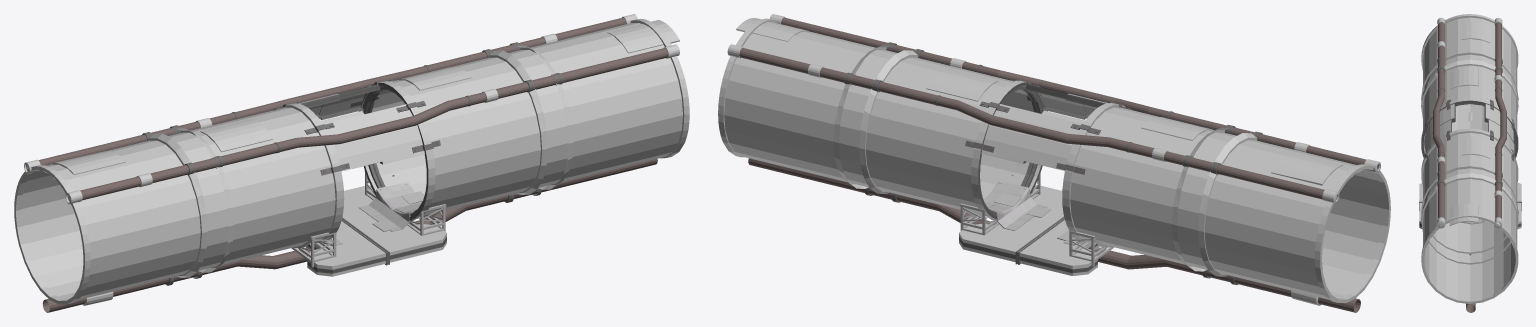
Rendered from AreaJ_Pipe_Outside_A.fbx.
The picture shows the model from 3 angles, left to right: view 1: azimuth 30°, elevation 25°; view 2: azimuth 150°, elevation 25°; view 3: azimuth 270°, elevation 25°; orthographic projection. The views are drawn at different scales.
Visible parts, largest first — view 1: SM_ENV_AMVLLG02_AreaJ_Pipe_Outside_A.mo; view 2: SM_ENV_AMVLLG02_AreaJ_Pipe_Outside_A.mo; view 3: SM_ENV_AMVLLG02_AreaJ_Pipe_Outside_A.mo.
Part boxes in pixels (x1,y1,x2,y2): SM_ENV_AMVLLG02_AreaJ_Pipe_Outside_A.mo: [14, 14, 689, 312]; SM_ENV_AMVLLG02_AreaJ_Pipe_Outside_A.mo: [718, 14, 1390, 312]; SM_ENV_AMVLLG02_AreaJ_Pipe_Outside_A.mo: [1419, 14, 1521, 312].
Bounding box in the file's own units: 8636 × 2115 × 1818.
